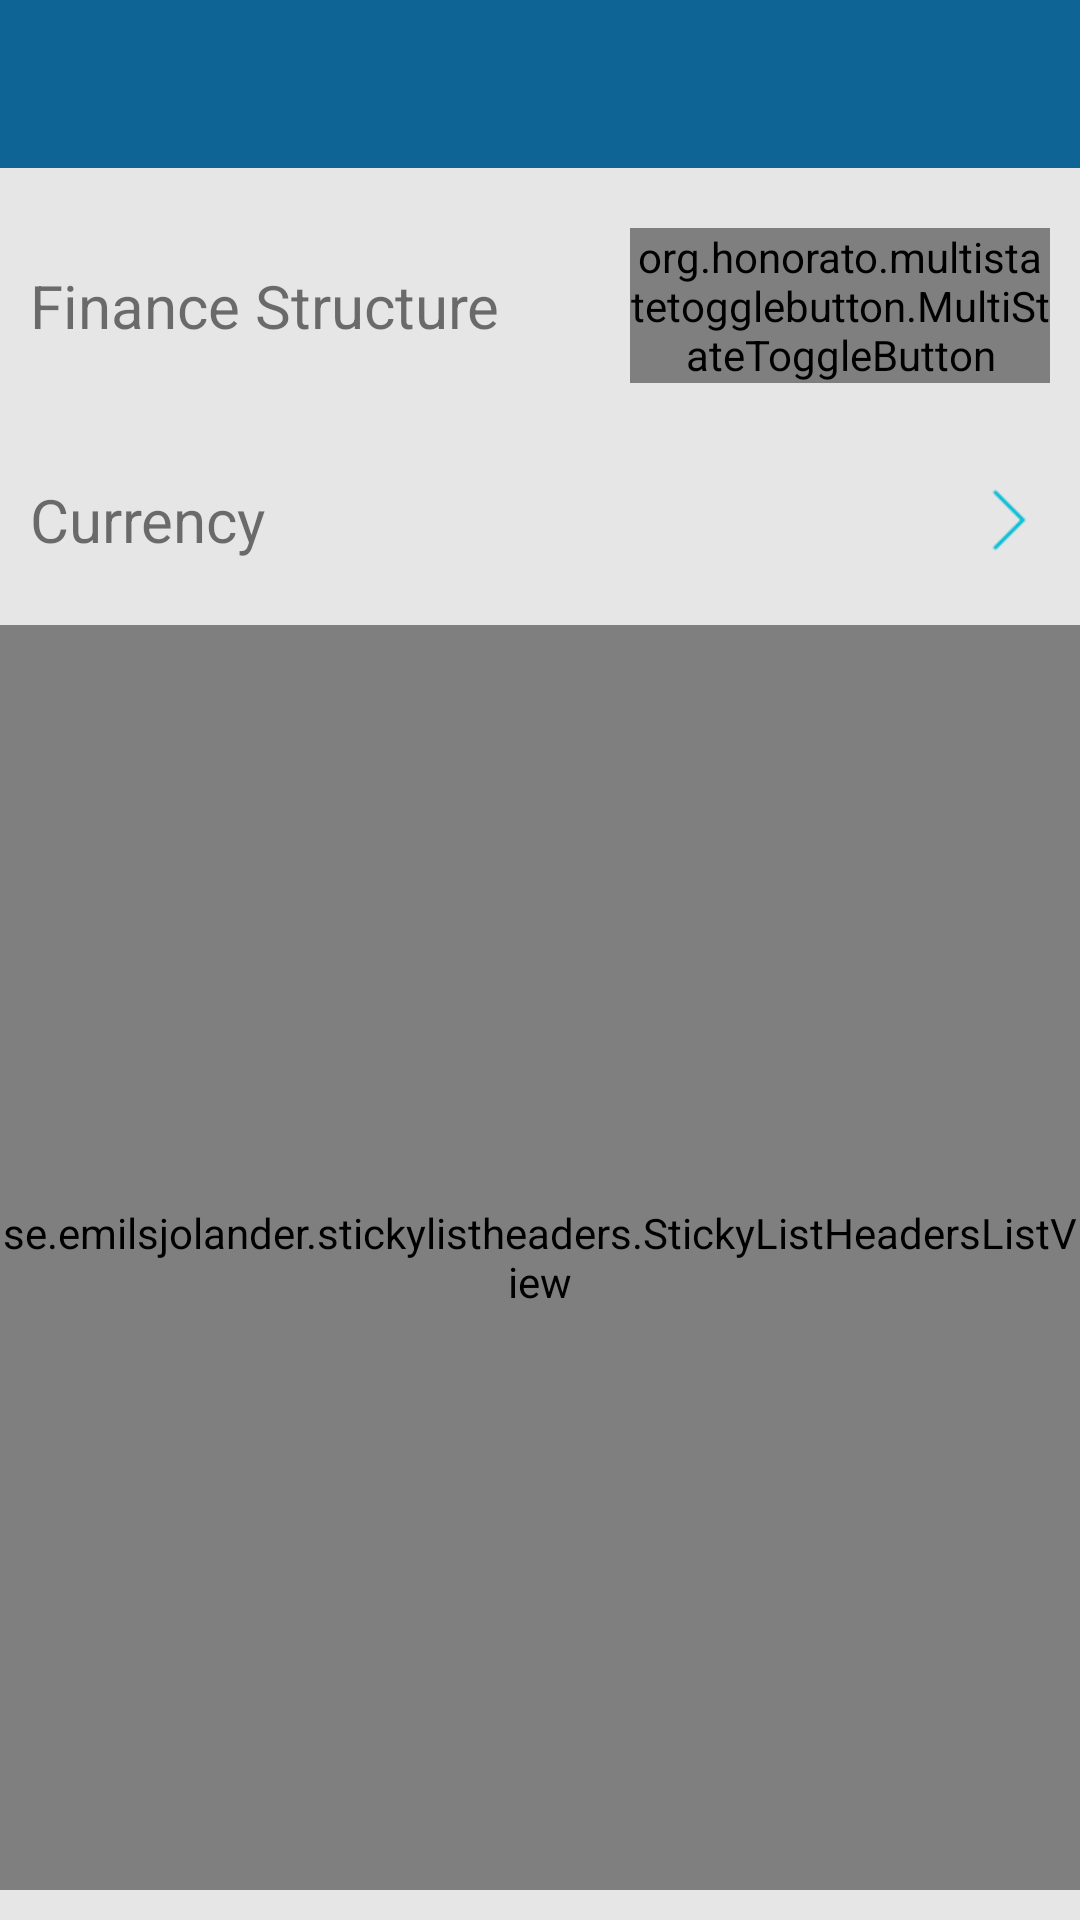

Icon click points for this 1080w x 1920h phone screenshot, format point (x, y):
arrow: point (1009, 520)
